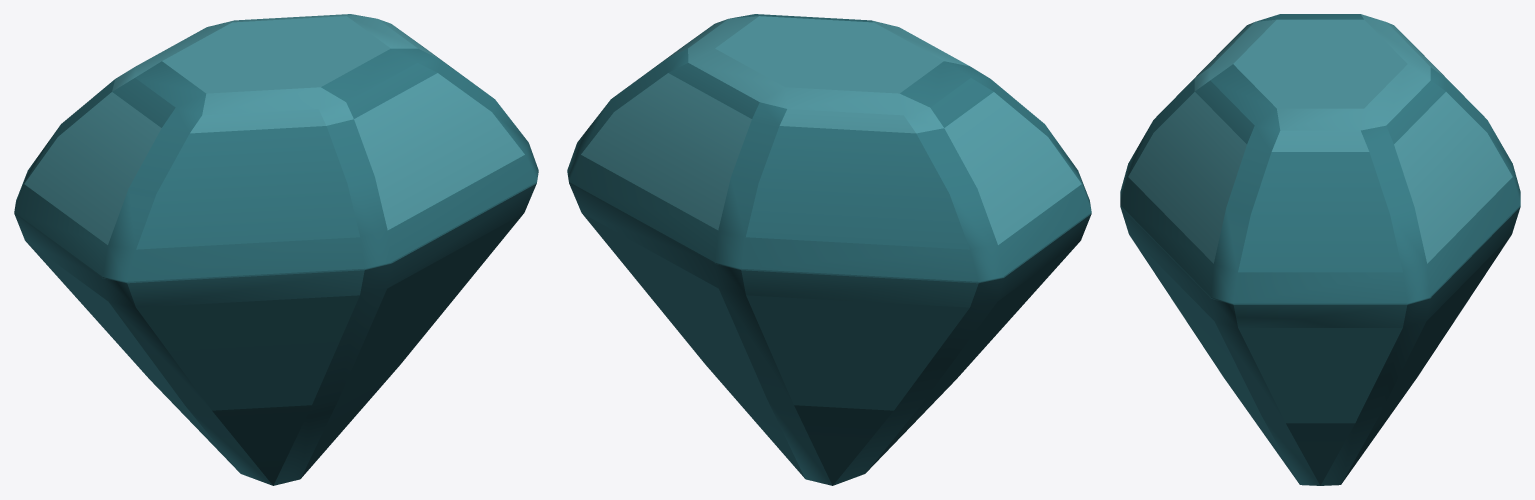
File: Gem_24.glb
3 renders of one model, left to right at view 1: azimuth 30°, elevation 25°; view 2: azimuth 150°, elevation 25°; view 3: azimuth 270°, elevation 25°, orthographic.
Visible parts, largest first — view 1: Gem_24; view 2: Gem_24; view 3: Gem_24.
Part boxes in pixels (bbox=[...]): Gem_24: bbox=[14, 14, 538, 485]; Gem_24: bbox=[567, 14, 1091, 485]; Gem_24: bbox=[1120, 14, 1520, 485].
Bounding box in the file's own units: 0.9076 × 0.8352 × 0.7315.
